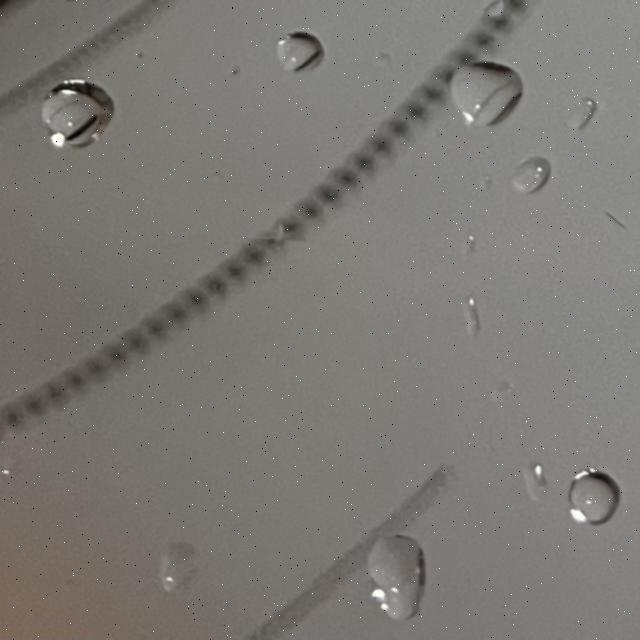raindrop: (434, 36, 536, 138), (361, 518, 437, 618), (34, 74, 121, 150), (134, 542, 208, 597), (566, 462, 622, 531), (272, 25, 336, 84), (501, 143, 560, 205), (456, 290, 500, 348), (568, 88, 595, 152), (518, 454, 552, 498)
